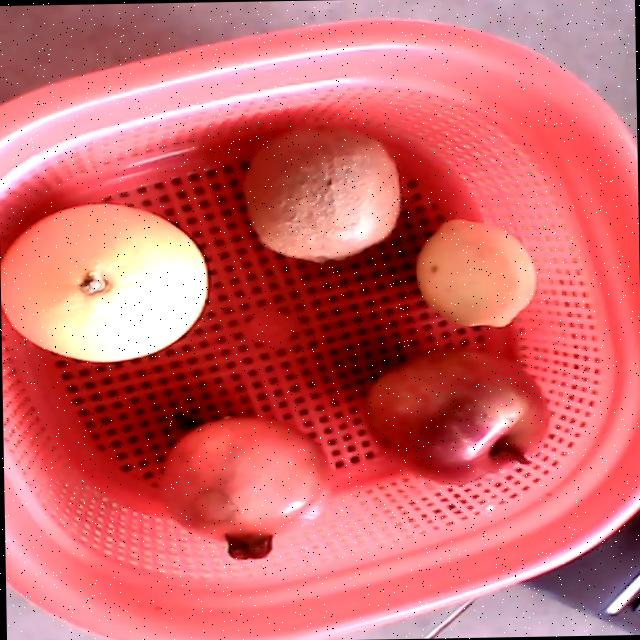apple: (362, 349, 548, 486)
kiwi: (244, 125, 400, 262)
lemon: (414, 219, 536, 328)
orange: (0, 202, 207, 363)
pomegranate: (158, 417, 330, 560)
